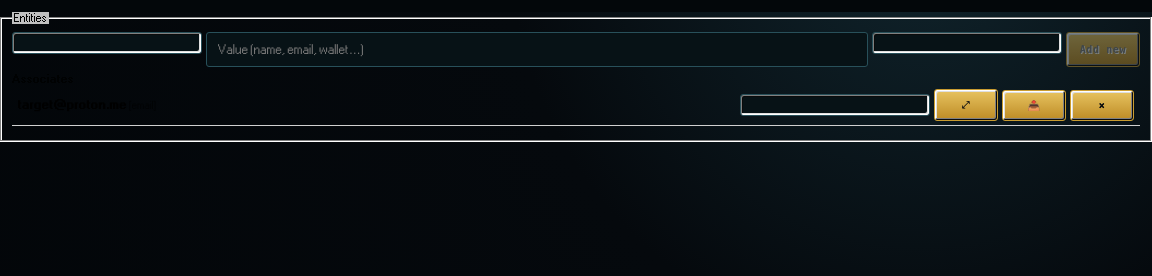
Test case: EntitiesSection — right-click copy › right-click opens a menu; "Copy value" writes the raw value + toasts
This screenshot has width=1152, height=276.
Right-click the list item "target@proton.me [email] ⤢ 📤 ×" at x=576, y=106, box [12,85,1140,126]
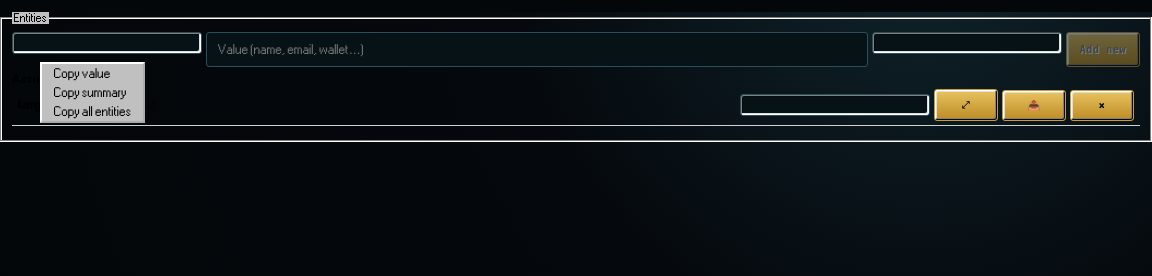
Result: the element with class "ga98-menu" is shown at [40,62,145,123]
Click the text "Copy value" at x=82, y=74, box [54,67,111,80]
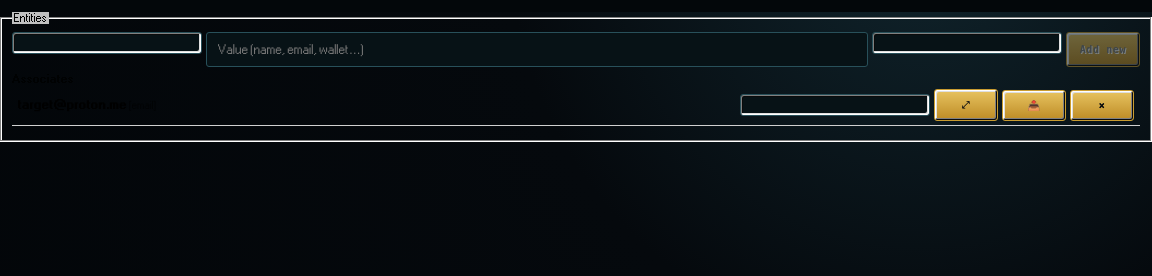
Result: the element with class "ga98-menu" is gone
